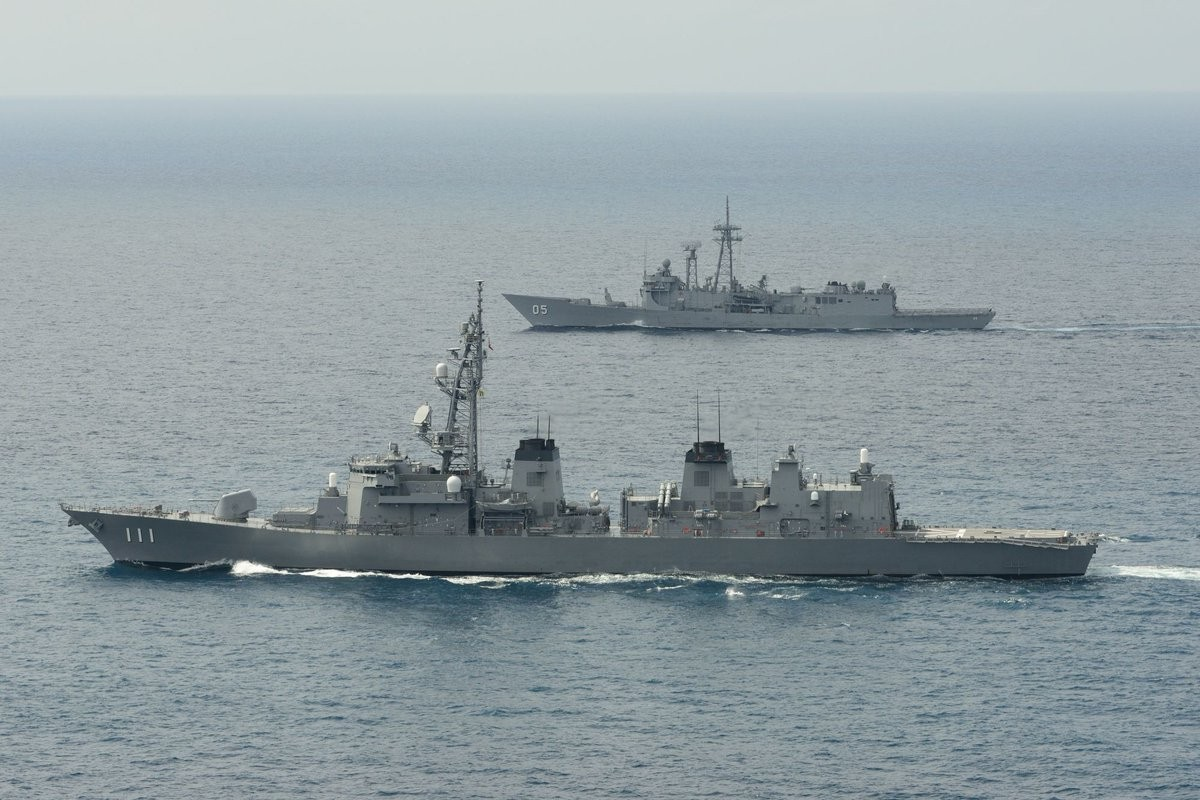warship: (60, 307, 1119, 591), (499, 193, 1011, 334)
